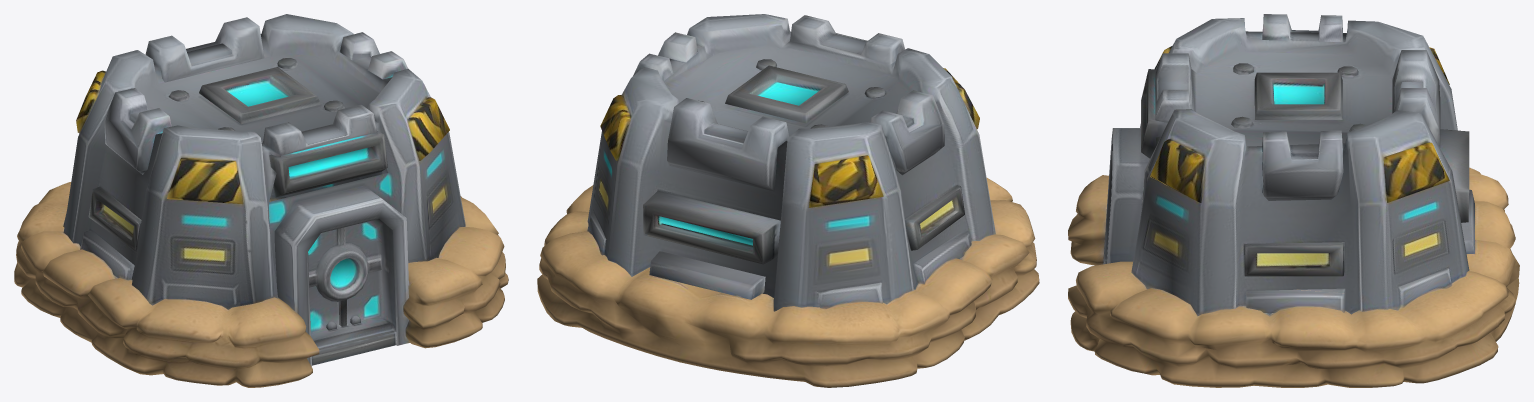
File: bunker.glb
3 renders of one model, left to right at view 1: azimuth 30°, elevation 25°; view 2: azimuth 150°, elevation 25°; view 3: azimuth 270°, elevation 25°, orthographic. The views are drawn at different scales.
Parts seen in each view (by area): view 1: tripo_node_d44672a3-1479-45e3-9cc0-6dfd683db311; view 2: tripo_node_d44672a3-1479-45e3-9cc0-6dfd683db311; view 3: tripo_node_d44672a3-1479-45e3-9cc0-6dfd683db311.
Boxes of the visible parts, bbox=[...] form: tripo_node_d44672a3-1479-45e3-9cc0-6dfd683db311: bbox=[14, 14, 508, 387]; tripo_node_d44672a3-1479-45e3-9cc0-6dfd683db311: bbox=[537, 14, 1039, 387]; tripo_node_d44672a3-1479-45e3-9cc0-6dfd683db311: bbox=[1068, 14, 1519, 387].
Size of the model in its own units: 3.3 by 1.74 by 3.2.
1 material, 1 textured.
